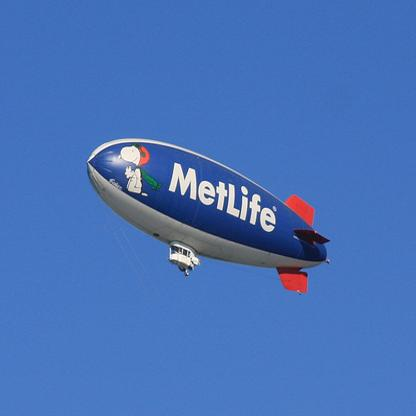Airship: (79, 134, 335, 297)
